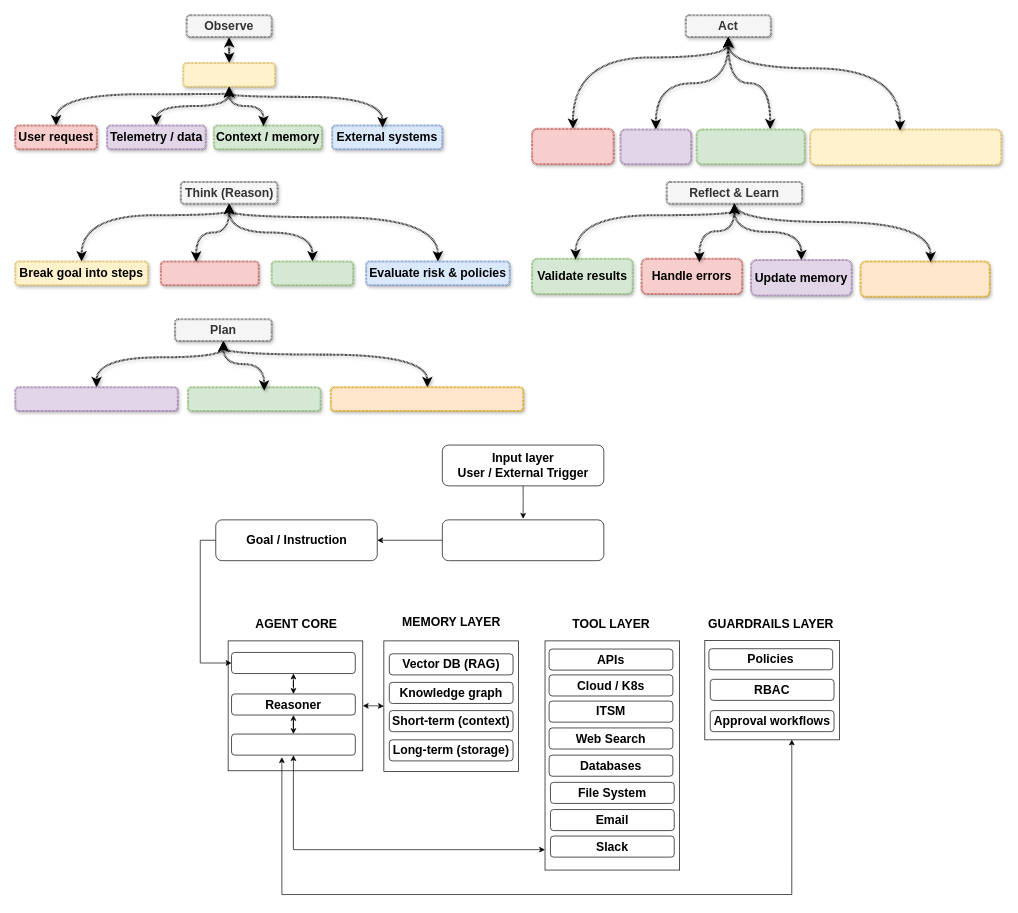
Some shapes in this 1018 by 913 pixel diagram are drawn without their labels. Here are the shapes that lost their labels. From the top down, the centre of each, then its label:
At (229,75): "Collect inputs".
At (573,147): "Call APIs".
At (656,147): "Run code".
At (751,147): "Query databases".
At (906,147): "Trigger automation (Terraform, Ansible, ITSM, etc.)".
At (210,274): "Decide strategy".
At (313,274): "Select tools".
At (925,279): "Improve next actions".
At (97,400): "Create execution workflow".
At (254,400): "Sequence tasks".
At (427,400): "Assign to sub-agents (optional)".
At (523,540): "Orchestrator".
At (293,663): "Planner".
At (293,744): "Action Selector".
